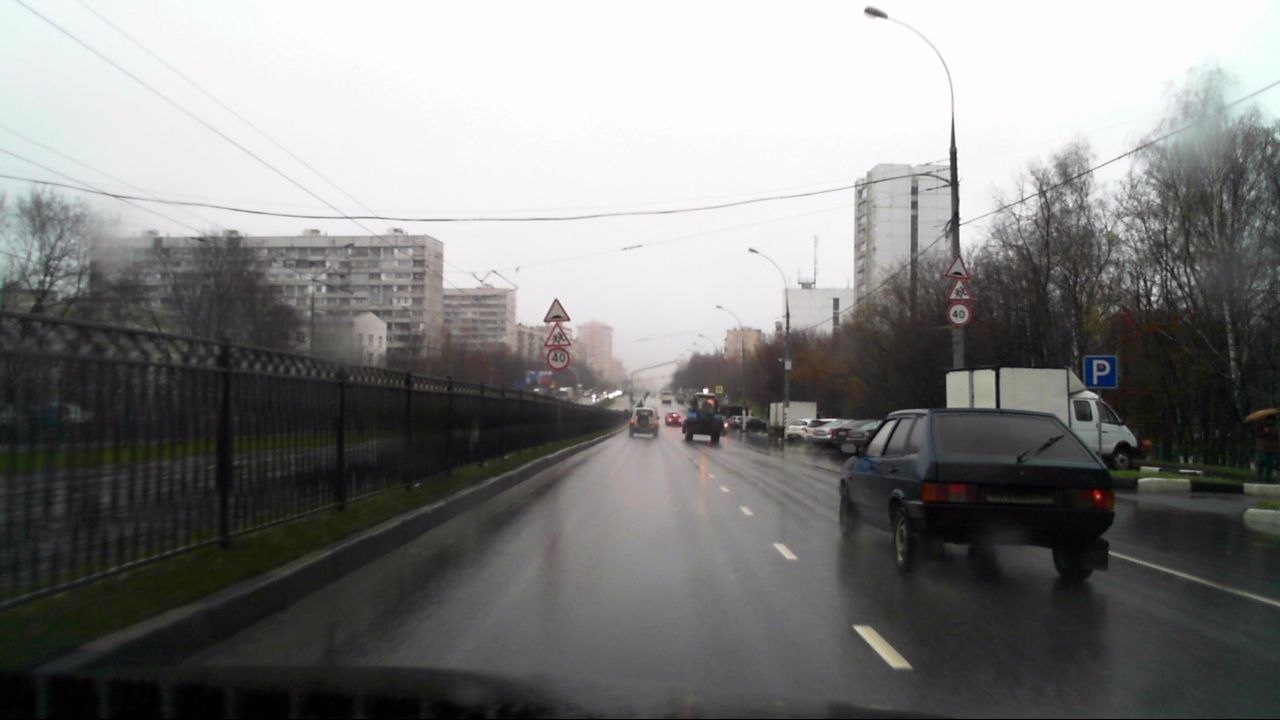speed_warning_40: (547, 348, 569, 368)
